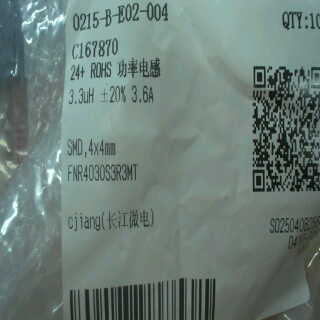3.3uH: (66, 85, 97, 108)
